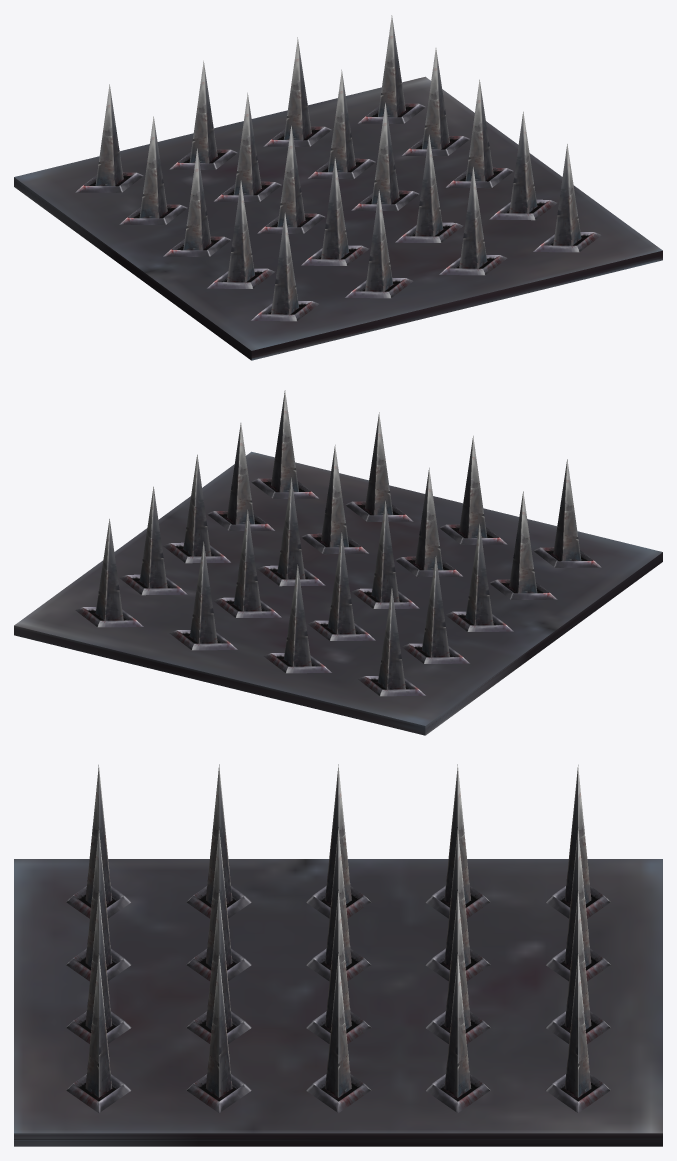
File: t-sunkens-01.FBX
3 views of the same model, one above another, from view 1: azimuth 30°, elevation 25°; view 2: azimuth 150°, elevation 25°; view 3: azimuth 270°, elevation 25° (orthographic). The views are drawn at different scales.
Parts seen in each view (by area): view 1: Box018, Object002; view 2: Box018, Object002; view 3: Box018, Object002.
Part boxes in pixels (left/top/right/bottom): Box018: left=14, top=76, right=662, bottom=360; Object002: left=95, top=15, right=581, bottom=314; Box018: left=14, top=451, right=662, bottom=735; Object002: left=95, top=390, right=581, bottom=689; Box018: left=14, top=859, right=662, bottom=1146; Object002: left=85, top=764, right=591, bottom=1097.
Bounding box in the file's own units: 125 × 32.14 × 125.
1 material, 1 textured.
